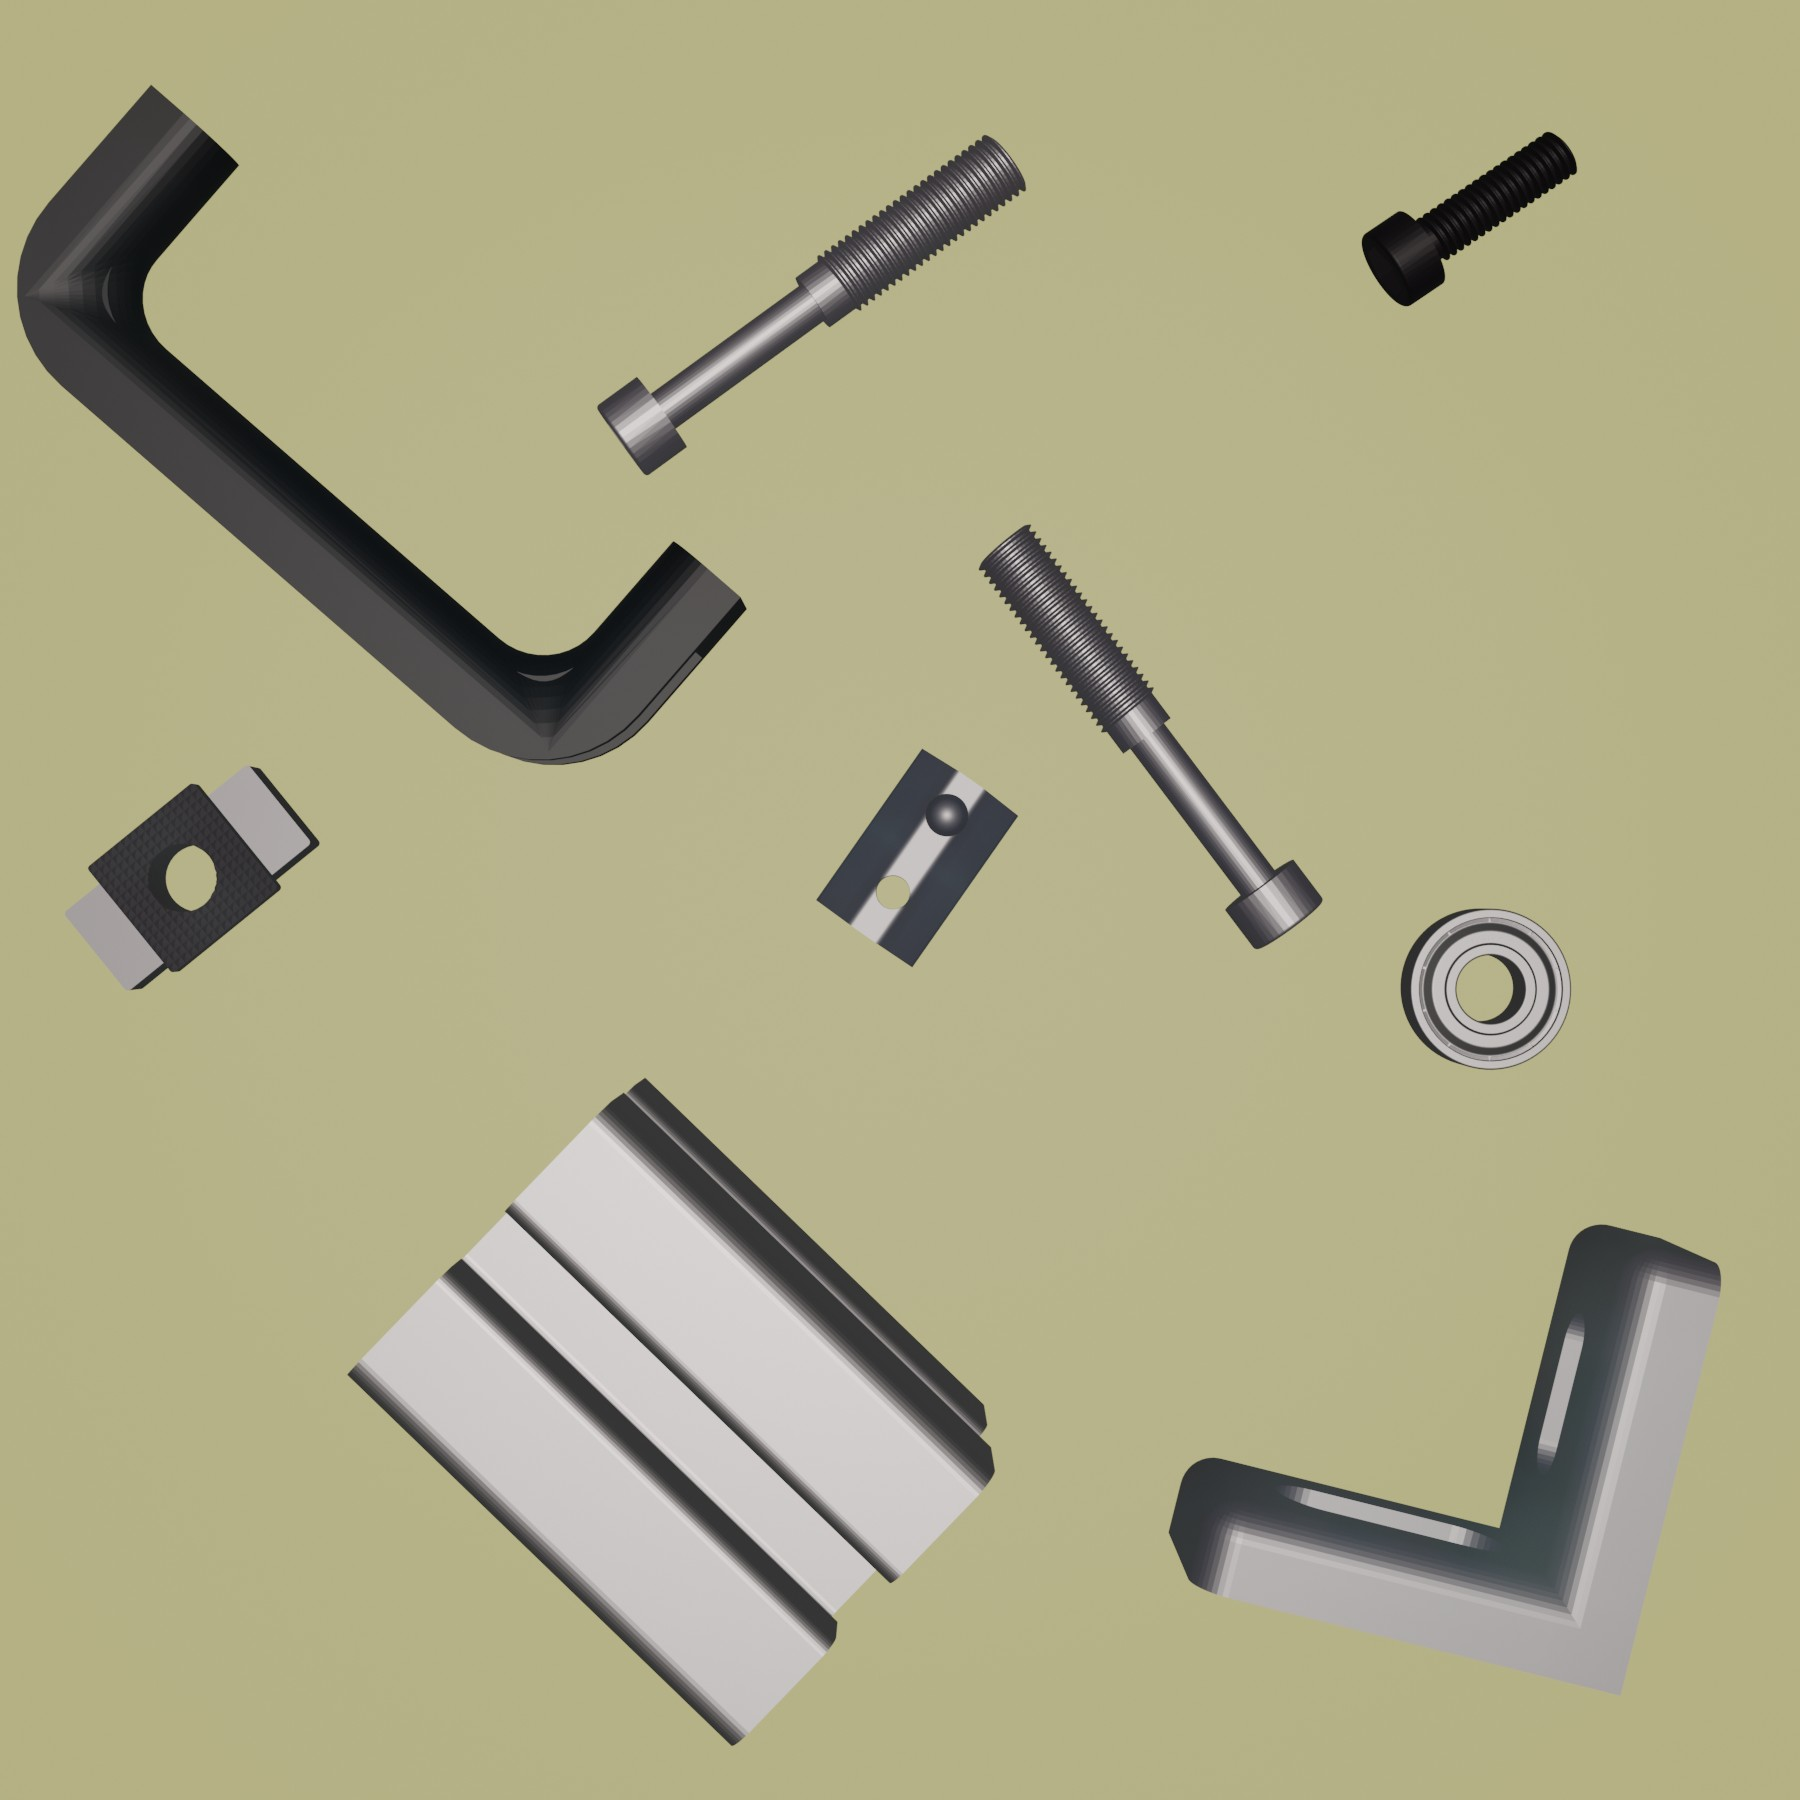Aluminium Extension: (346, 1070, 997, 1746)
Ball Bearing: (1398, 903, 1576, 1073)
Multiwinkel: (1167, 1220, 1723, 1699)
Pull Handle: (13, 86, 747, 768)
Shoulder Socket Head Cap Screw: (977, 519, 1324, 951), (597, 135, 1029, 475)
Socket Head Cap Screw: (1358, 125, 1577, 312)
T Nut Square: (63, 762, 321, 996)
T Spring Nut: (813, 743, 1019, 969)
